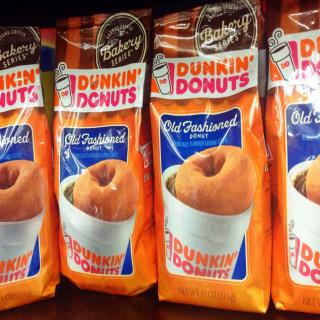Doughnut: (174, 140, 252, 218), (72, 158, 140, 220), (0, 159, 47, 222), (304, 154, 320, 207)
